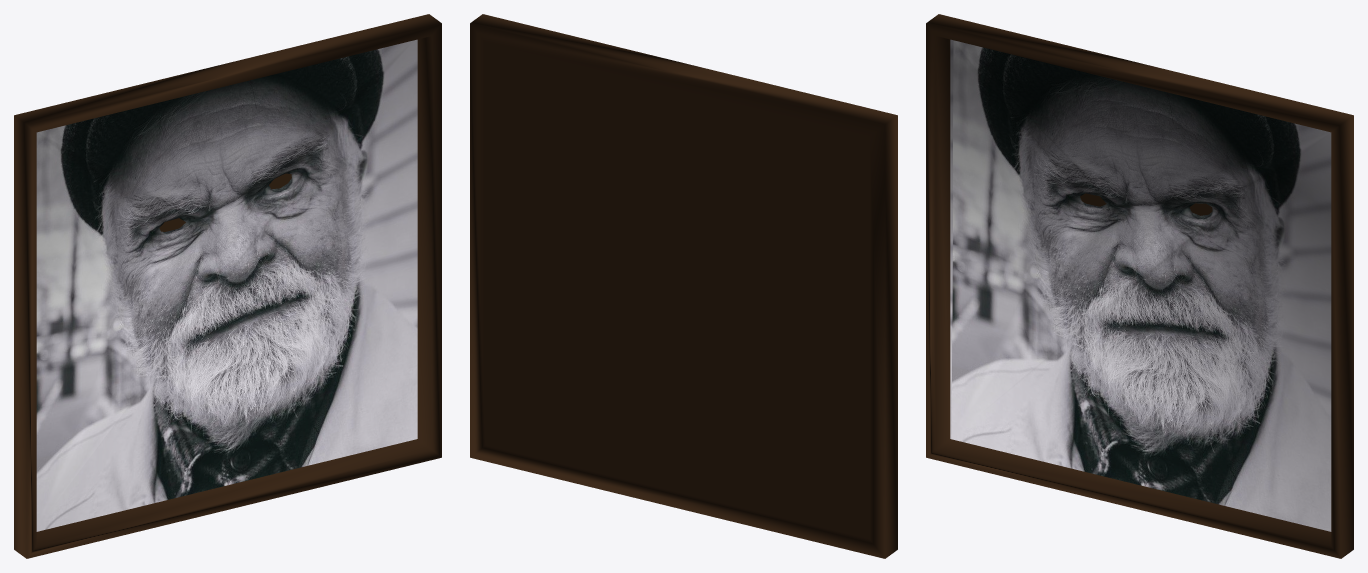
Rendered from painting2.glb.
The picture shows the model from 3 angles, left to right: view 1: azimuth 30°, elevation 25°; view 2: azimuth 150°, elevation 25°; view 3: azimuth 330°, elevation 25°; orthographic projection.
Visible parts, largest first — view 1: Cube; view 2: Cube; view 3: Cube.
Part boxes in pixels (x1,y1,x2,y2): Cube: (14, 14, 441, 558); Cube: (470, 14, 897, 558); Cube: (926, 14, 1353, 558).
Size of the model in its own units: 2 by 2 by 0.106.
2 materials, 1 textured.
